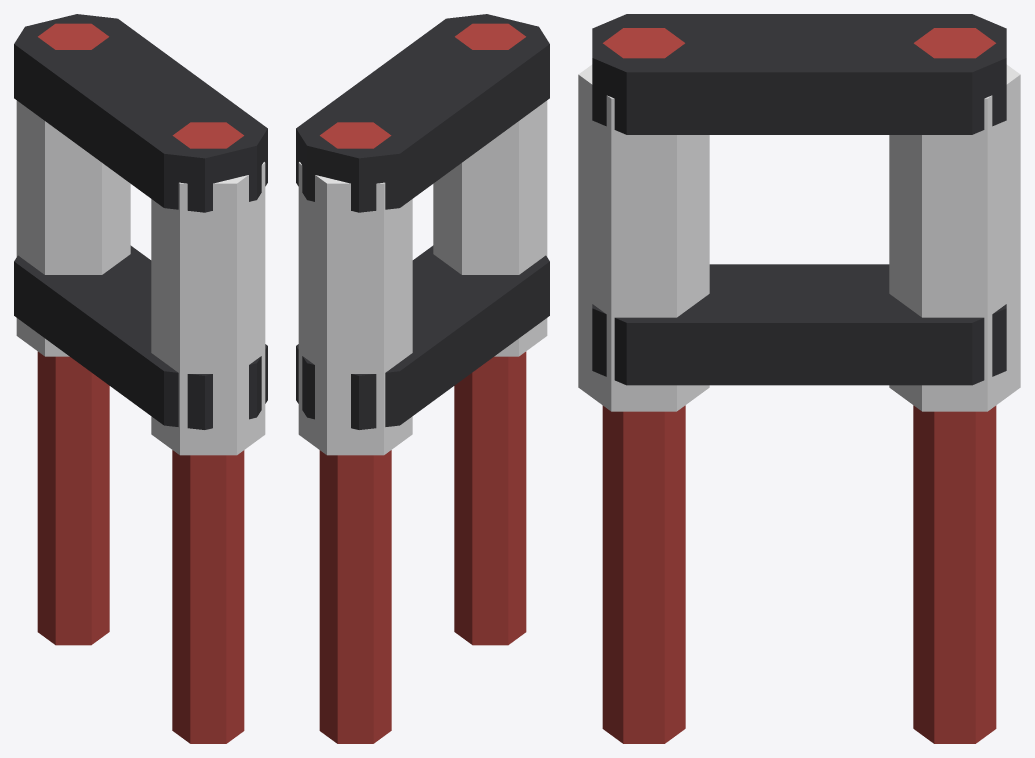
Rendered from shrouded_classic_fork_upper_lod2.glb.
The picture shows the model from 3 angles, left to right: view 1: azimuth 30°, elevation 25°; view 2: azimuth 150°, elevation 25°; view 3: azimuth 270°, elevation 25°; orthographic projection. The views are drawn at different scales.
Visible parts, largest first — view 1: shrouded_classic_fork_upper_lod2; view 2: shrouded_classic_fork_upper_lod2; view 3: shrouded_classic_fork_upper_lod2.
Part boxes in pixels (left/top/right/bottom): shrouded_classic_fork_upper_lod2: left=14, top=14, right=267, bottom=743; shrouded_classic_fork_upper_lod2: left=296, top=14, right=549, bottom=743; shrouded_classic_fork_upper_lod2: left=578, top=14, right=1020, bottom=743.
Size of the model in its own units: 0.08 by 0.438 by 0.256.
